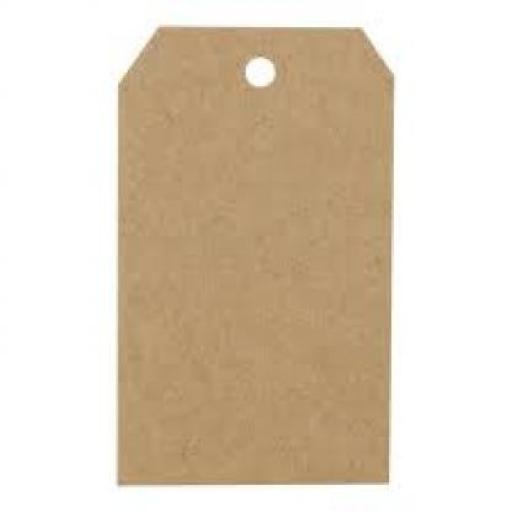cardboard: (116, 24, 389, 482)
